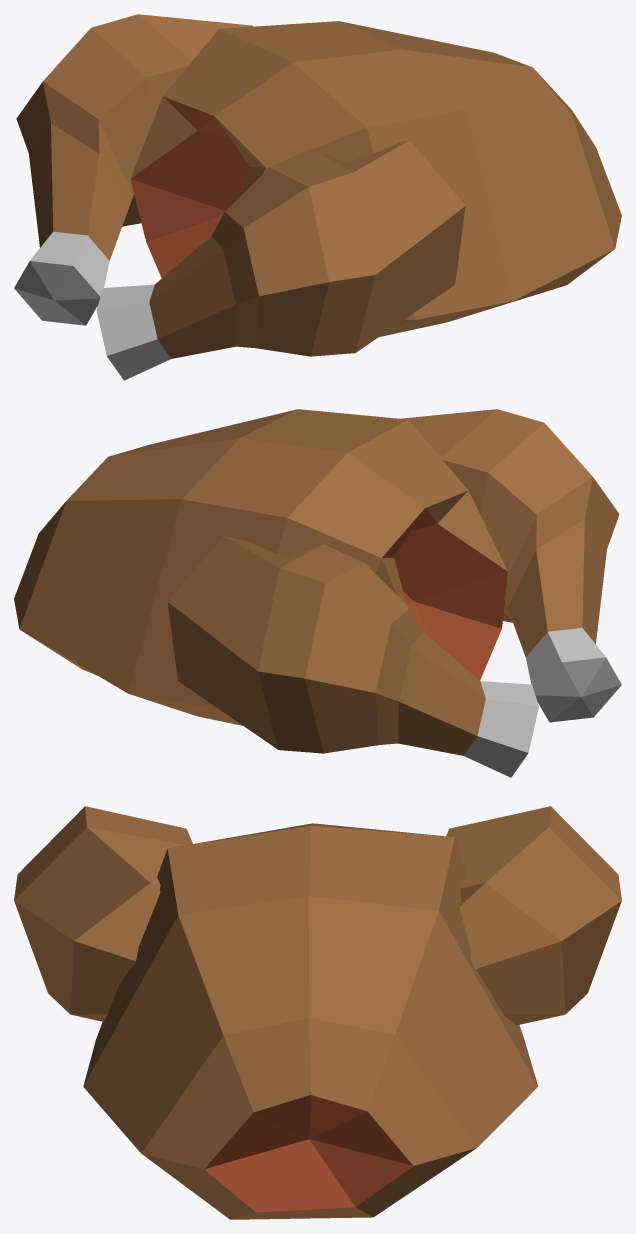
The model's file is Turkey_Roast.fbx.
3 views of the same model, one above another, from view 1: azimuth 30°, elevation 25°; view 2: azimuth 150°, elevation 25°; view 3: azimuth 270°, elevation 25° (orthographic). The views are drawn at different scales.
Parts seen in each view (by area): view 1: Turkey_Roast; view 2: Turkey_Roast; view 3: Turkey_Roast.
Part boxes in pixels (<box>): Turkey_Roast: <box>14,14,621,380</box>; Turkey_Roast: <box>14,409,621,777</box>; Turkey_Roast: <box>14,806,621,1219</box>.
Size of the model in its own units: 0.8968 by 0.4388 by 0.8596.
